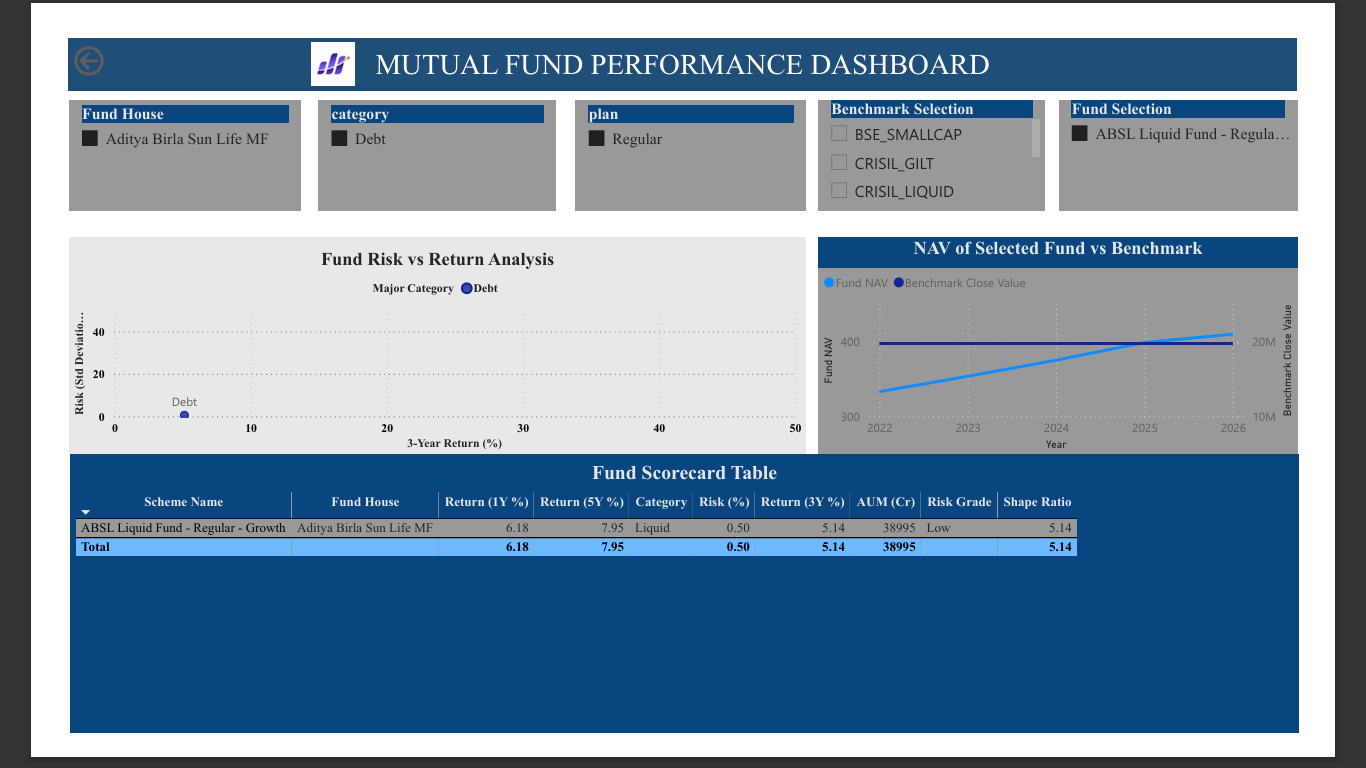

What the dashboard file says about the page in this screenshot:
{"tool":"powerbi","page":{"name":"Fund Performance","canvas":[1280,720],"ordinal":1},"visuals":[{"type":"textbox","box":[9.6,15.1,280.8,39.9],"z":0},{"type":"textbox","title":"MUTUAL FUND PERFORMANCE DASHBOARD","box":[13.8,12.4,1251.1,53.7],"z":1000},{"type":"scatterChart","title":"Fund Risk vs Return Analysis","fields":{"X":["Sum(scheme_performance_clean.return_3yr_pct)"],"Y":["Sum(scheme_performance_clean.std_dev_ann_pct)"],"Size":["Sum(scheme_performance_clean.aum_crore)"],"Series":["scheme_performance_clean.Major Category"]},"box":[13.4,215.1,749.9,221.1],"z":2000},{"type":"tableEx","title":"Fund Scorecard Table","fields":{"Values":["scheme_performance_clean.scheme_name","scheme_performance_clean.fund_house","Sum(scheme_performance_clean.return_1yr_pct)","Sum(scheme_performance_clean.return_5yr_pct)","scheme_performance_clean.category","Sum(scheme_performance_clean.std_dev_ann_pct)","Sum(scheme_performance_clean.return_3yr_pct)","Sum(scheme_performance_clean.aum_crore)","scheme_performance_clean.risk_grade","Sum(scheme_performance_clean.sharpe_ratio)"]},"box":[28.4,436.2,1251.8,283.8],"z":3000},{"type":"slicer","fields":{"Values":["fund_master_clean.scheme_name"]},"box":[1022.8,75,243.4,113.3],"z":4000},{"type":"slicer","fields":{"Values":["benchmark_indices_clean.index_name"]},"box":[777.8,75,231.2,113.3],"z":5000},{"type":"lineChart","title":"NAV of Selected Fund vs Benchmark","fields":{"Category":["Nav_History.date.Variation.Date Hierarchy.Year","Nav_History.date.Variation.Date Hierarchy.Quarter","Nav_History.date.Variation.Date Hierarchy.Month","Nav_History.date.Variation.Date Hierarchy.Day"],"Y":["Nav_History.Fund NAV"],"Y2":["Sum(benchmark_indices_clean.close_value)"]},"box":[777.6,214.7,488.6,221.6],"z":6000},{"type":"slicer","fields":{"Values":["fund_master_clean.fund_house"]},"box":[15.3,75,235.8,113.3],"z":7000},{"type":"slicer","fields":{"Values":["fund_master_clean.category"]},"box":[269.5,75,241.9,113.3],"z":8000},{"type":"slicer","fields":{"Values":["fund_master_clean.plan"]},"box":[531.3,75,234.3,113.3],"z":9000},{"type":"actionButton","box":[15.1,15.1,52.3,39.9],"z":10000},{"type":"image","box":[251,16.4,65.7,43.3],"z":11000}]}

Visuals, with their boxes in screenshot pixels (x1, y1, x2, y2), scaled from the page's 1280x720 canvas onto the 1366x768 screenshot:
textbox: crop(10, 16, 310, 59)
"MUTUAL FUND PERFORMANCE DASHBOARD" textbox: crop(15, 13, 1350, 71)
"Fund Risk vs Return Analysis" scatterChart: crop(14, 229, 815, 465)
"Fund Scorecard Table" tableEx: crop(30, 465, 1365, 767)
slicer - fund_master_clean.scheme_name: crop(1092, 80, 1351, 201)
slicer - benchmark_indices_clean.index_name: crop(830, 80, 1077, 201)
"NAV of Selected Fund vs Benchmark" lineChart: crop(830, 229, 1351, 465)
slicer - fund_master_clean.fund_house: crop(16, 80, 268, 201)
slicer - fund_master_clean.category: crop(288, 80, 546, 201)
slicer - fund_master_clean.plan: crop(567, 80, 817, 201)
actionButton: crop(16, 16, 72, 59)
image: crop(268, 17, 338, 64)
